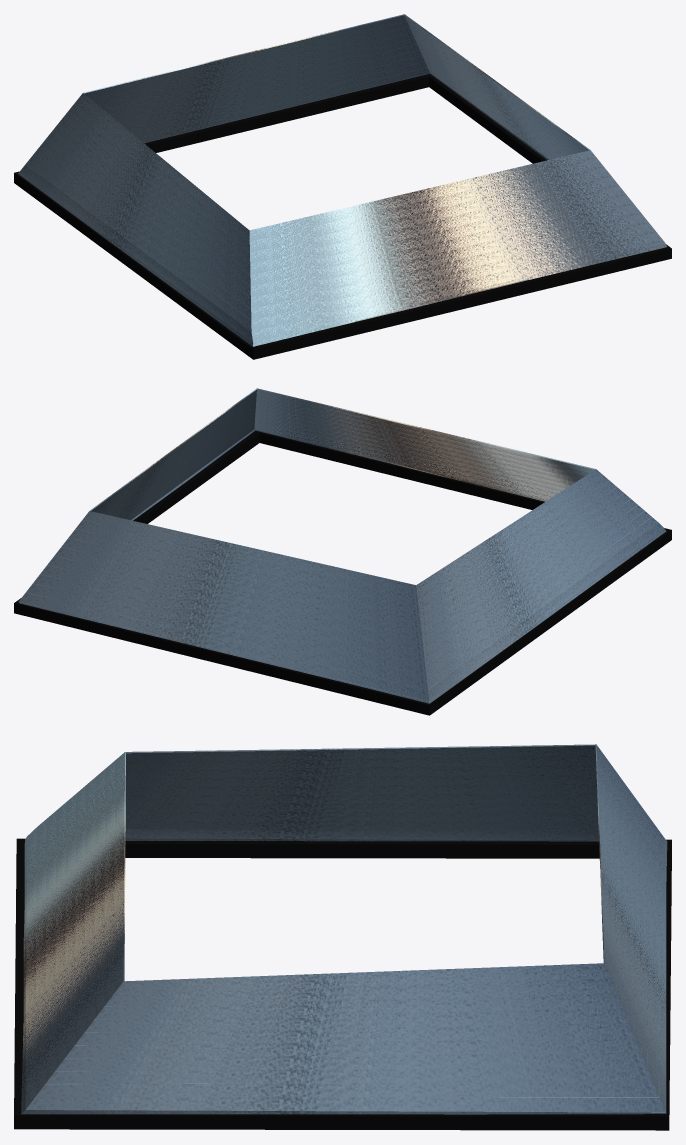
File: Roof.fbx
3 views of the same model, one above another, from view 1: azimuth 30°, elevation 25°; view 2: azimuth 150°, elevation 25°; view 3: azimuth 270°, elevation 25° (orthographic). The views are drawn at different scales.
Parts seen in each view (by area): view 1: Roof; view 2: Roof; view 3: Roof.
Part boxes in pixels (box(x1,y1,x2,y2)): Roof: box(14, 14, 671, 359); Roof: box(14, 388, 671, 715); Roof: box(14, 744, 671, 1130).
Size of the model in its own units: 3692 by 845 by 3692.
